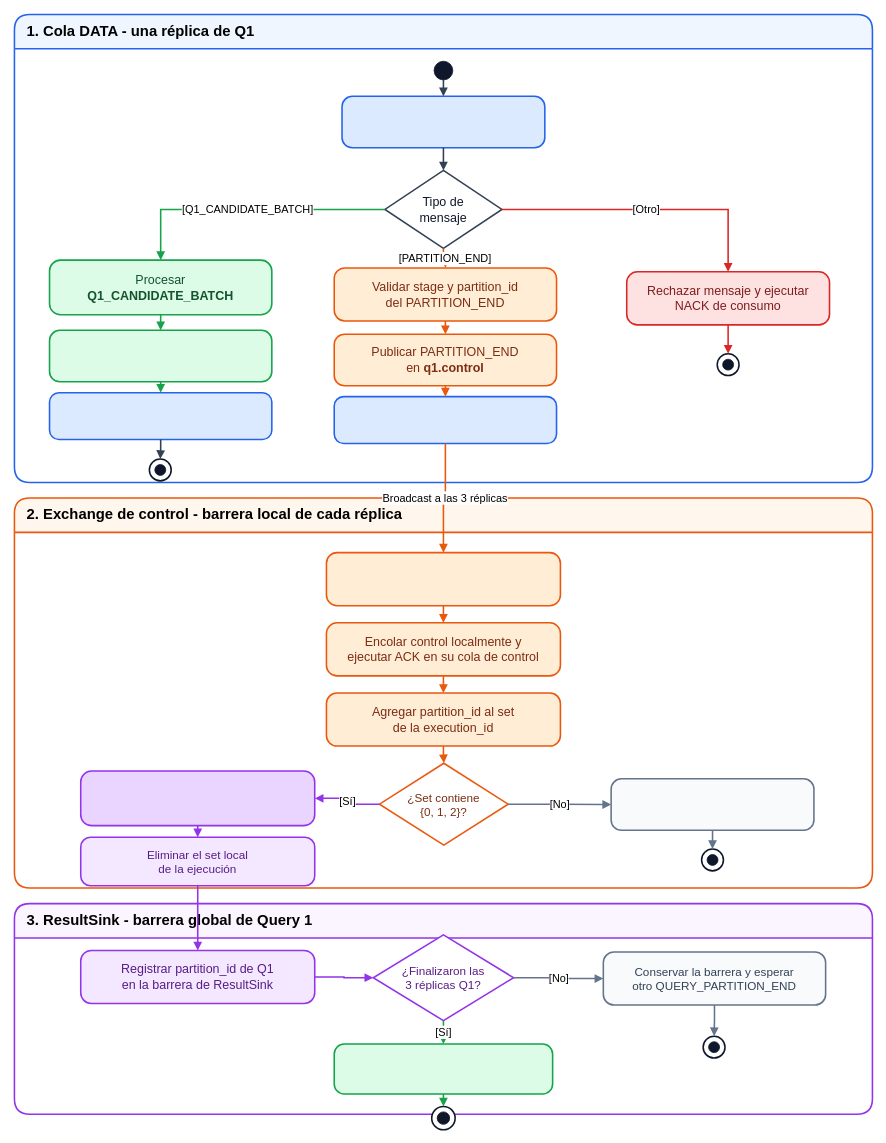
Image size: 886x1143. Some labels were removed from this diagram. Here are the shapes that lost their labels. From the top down, the box of each, then its label:
(341, 95, 545, 148): Recibir mensaje desde q1.input
(48, 329, 272, 382): Publicar RESULT por cada artículo en inglés
(48, 392, 272, 440): Ejecutar ACK de consumo del batch
(333, 395, 557, 444): Ejecutar ACK de consumo en la cola DATA
(325, 551, 561, 606): Cada réplica recibe una copia desde q1.control
(80, 770, 315, 826): Publicar QUERY_PARTITION_END con partition_id propio
(610, 778, 814, 831): Conservar el set y esperar el siguiente control
(333, 1043, 553, 1094): Publicar QUERY_END(Q1)
